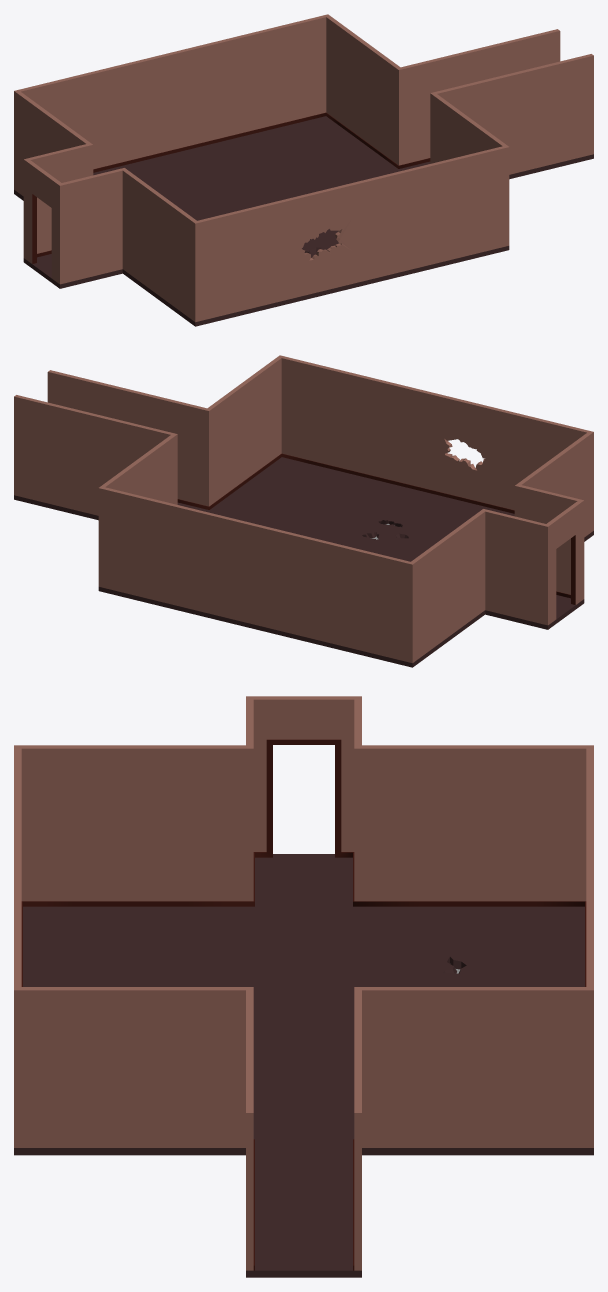
The model's file is Colere_Murs.fbx.
The picture shows the model from 3 angles, top to bottom: view 1: azimuth 30°, elevation 25°; view 2: azimuth 150°, elevation 25°; view 3: azimuth 270°, elevation 25°; orthographic projection. The views are drawn at different scales.
Parts seen in each view (by area): view 1: Colere_Murs; view 2: Colere_Murs; view 3: Colere_Murs.
Boxes of the visible parts, bbox=[...] form: Colere_Murs: bbox=[14, 14, 593, 326]; Colere_Murs: bbox=[14, 355, 593, 667]; Colere_Murs: bbox=[14, 696, 593, 1277].
Size of the model in its own units: 1700 by 326 by 1000.
